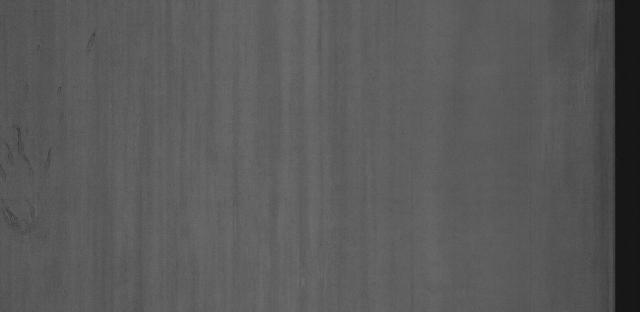water_spot: (5, 116, 66, 245)
